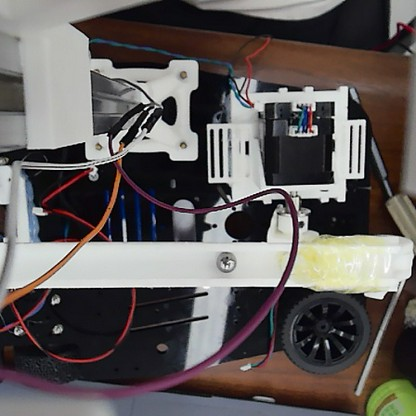ironball: (215, 249, 238, 274)
